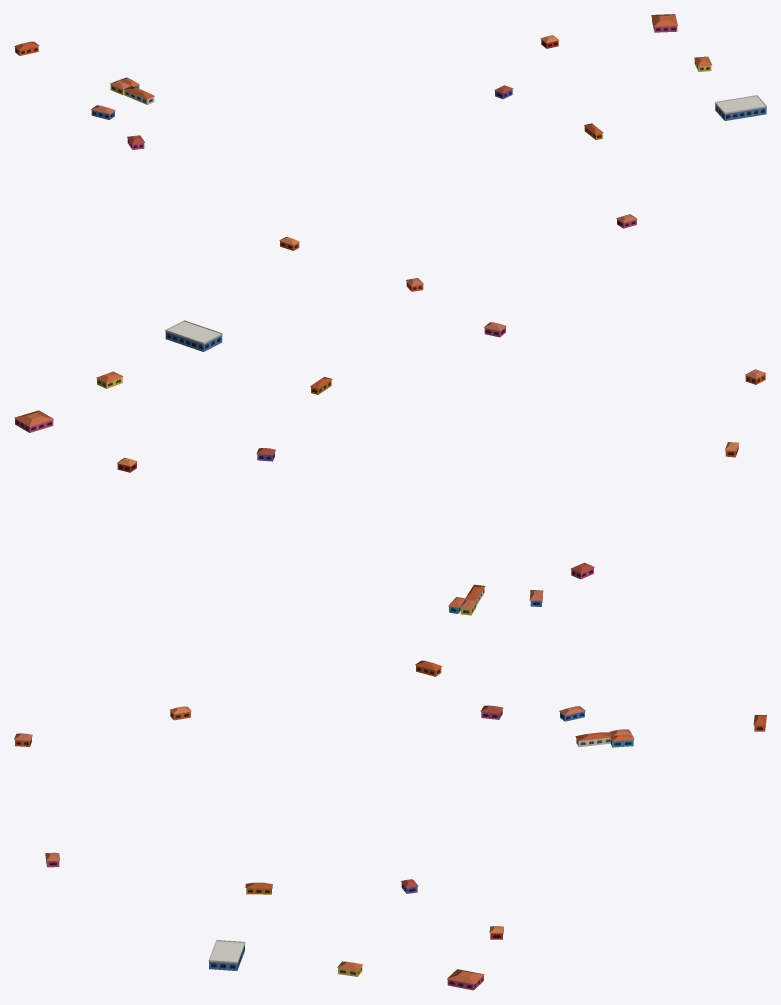
File: msb_noord_m17_m17.glb
3 views of the same model, one above another, from view 1: azimuth 30°, elevation 25°; view 2: azimuth 150°, elevation 25°; view 3: azimuth 270°, elevation 25° (orthographic). The views are drawn at different scales.
Parts seen in each view (by area): view 1: msb_noord_m17_m17_lod0; view 2: msb_noord_m17_m17_lod0; view 3: msb_noord_m17_m17_lod0.
Part boxes in pixels (x1=…): msb_noord_m17_m17_lod0: x1=14, y1=14, x2=766, y2=291; msb_noord_m17_m17_lod0: x1=14, y1=320, x2=766, y2=676; msb_noord_m17_m17_lod0: x1=14, y1=705, x2=766, y2=990.
Size of what is drawn, in the model's own units: 324 by 10.42 by 366.
3 materials, 1 textured.
